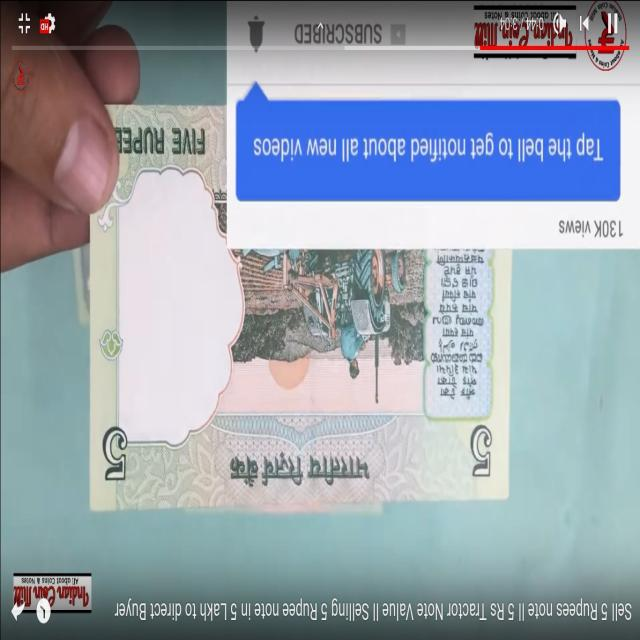5IndianRupees: (92, 118, 510, 502)
